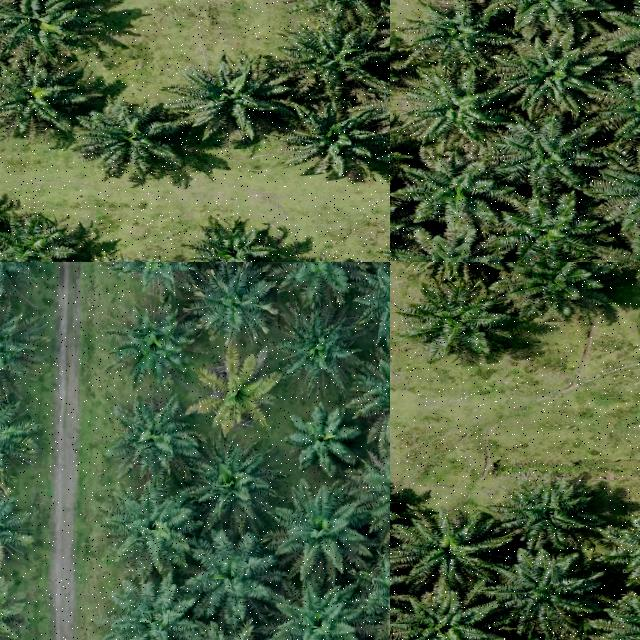Ganoderma: (204, 363, 267, 419)
